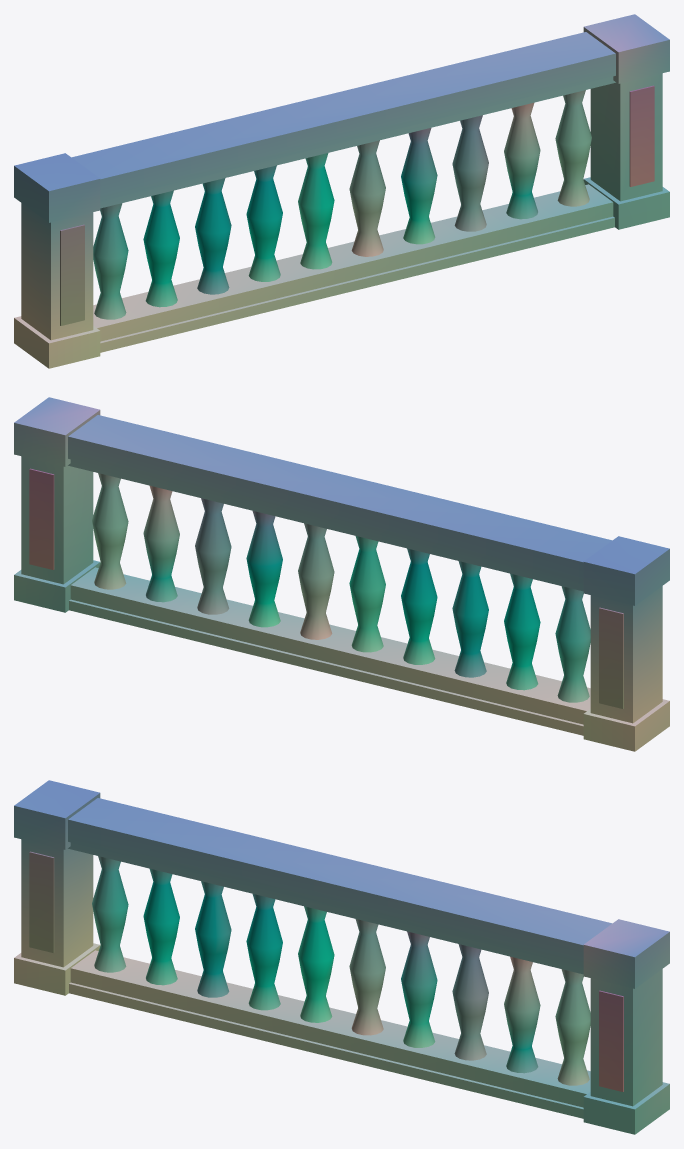
File: balustrade_4m.glb
The picture shows the model from 3 angles, top to bottom: view 1: azimuth 30°, elevation 25°; view 2: azimuth 150°, elevation 25°; view 3: azimuth 330°, elevation 25°; orthographic projection.
Parts seen in each view (by area): view 1: balustrade_frame, balustrade_panels, baluster.004, baluster.005, baluster.002, baluster.007, baluster.008, baluster.003, baluster.006, baluster.001, baluster.009, baluster; view 2: balustrade_frame, balustrade_panels, baluster.004, baluster.005, baluster.002, baluster.007, baluster.008, baluster.003, baluster.006, baluster.001, baluster.009, baluster; view 3: balustrade_frame, balustrade_panels, baluster.004, baluster.005, baluster.002, baluster.007, baluster.001, baluster.006, baluster.003, baluster, baluster.008, baluster.009.
Boxes of the visible parts, <box> form: balustrade_frame: <box>14,14,669,368</box>; balustrade_panels: <box>60,85,654,325</box>; baluster.004: <box>298,153,334,269</box>; baluster.005: <box>349,140,385,256</box>; baluster.002: <box>195,178,231,294</box>; baluster.007: <box>452,115,488,231</box>; baluster.008: <box>504,102,540,219</box>; baluster.003: <box>246,165,282,281</box>; baluster.006: <box>401,128,437,244</box>; baluster.001: <box>143,190,179,307</box>; baluster.009: <box>555,90,591,206</box>; baluster: <box>93,203,128,319</box>; balustrade_frame: <box>14,397,669,751</box>; balustrade_panels: <box>29,468,623,708</box>; baluster.004: <box>349,536,385,652</box>; baluster.005: <box>298,523,334,639</box>; baluster.002: <box>452,561,488,677</box>; baluster.007: <box>195,498,231,614</box>; baluster.008: <box>143,485,179,602</box>; baluster.003: <box>401,548,437,664</box>; baluster.006: <box>246,511,282,627</box>; baluster.001: <box>504,573,540,690</box>; baluster.009: <box>92,473,128,589</box>; baluster: <box>555,586,590,702</box>; balustrade_frame: <box>14,780,669,1134</box>; balustrade_panels: <box>29,851,623,1091</box>; baluster.004: <box>298,906,334,1022</box>; baluster.005: <box>349,919,385,1035</box>; baluster.002: <box>195,881,231,997</box>; baluster.007: <box>452,944,488,1060</box>; baluster.001: <box>143,868,179,985</box>; baluster.006: <box>401,931,437,1047</box>; baluster.003: <box>246,894,282,1010</box>; baluster: <box>92,856,128,972</box>; baluster.008: <box>504,956,540,1073</box>; baluster.009: <box>555,969,590,1085</box>.
Size of the model in its own units: 4.1 by 1.12 by 0.4.
